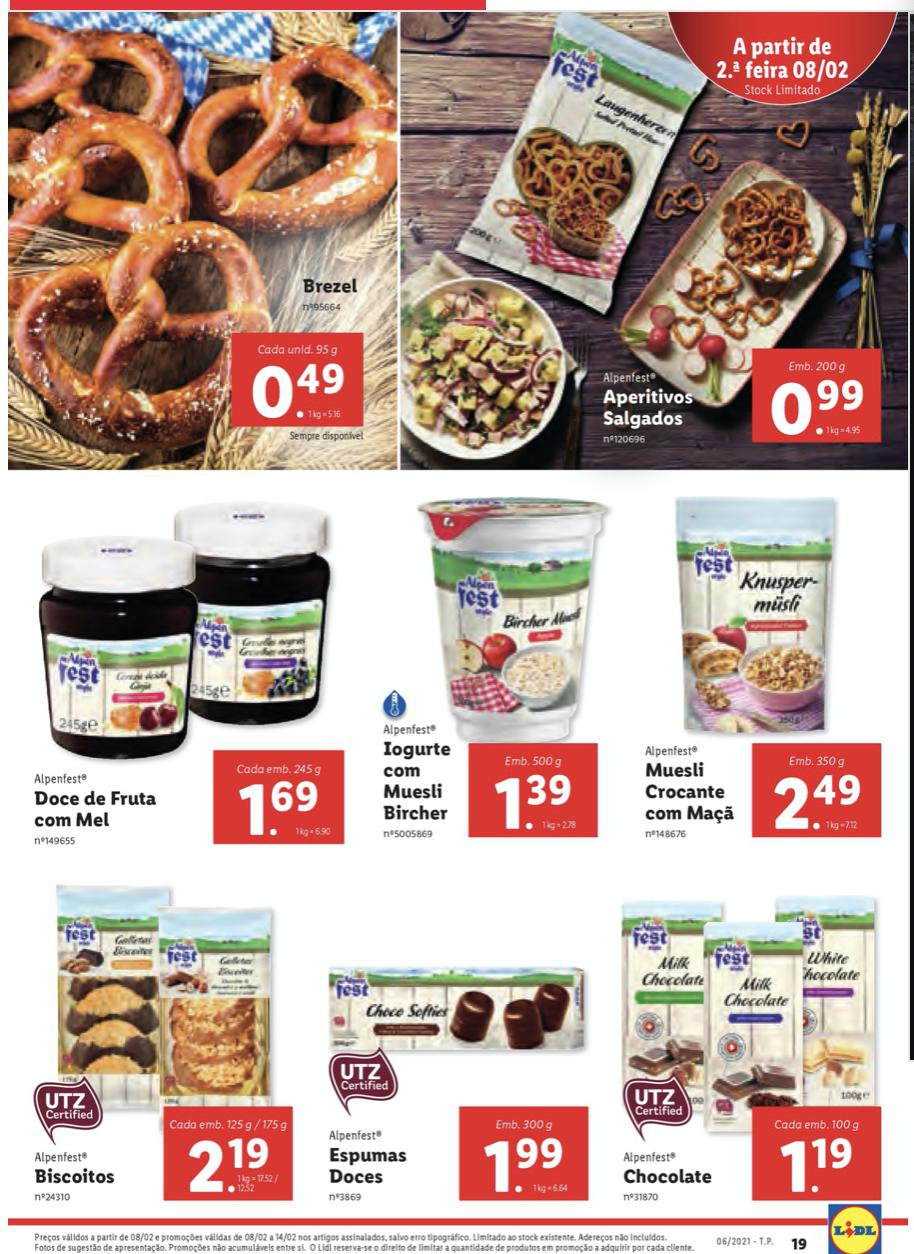name: (641, 757, 742, 826), (380, 738, 455, 826), (32, 787, 160, 834), (328, 1140, 424, 1192), (599, 384, 699, 431), (622, 1163, 717, 1195), (32, 1168, 117, 1192), (300, 274, 361, 301)
price: (249, 363, 355, 434), (767, 765, 871, 832), (771, 373, 867, 443), (485, 1132, 572, 1206), (778, 1134, 861, 1201), (236, 781, 325, 842), (497, 771, 582, 832), (186, 1135, 267, 1195)
product: (402, 53, 900, 467), (14, 24, 383, 449), (24, 492, 355, 871), (639, 487, 914, 857), (611, 881, 903, 1210), (371, 487, 625, 854), (30, 881, 292, 1210), (319, 942, 591, 1207)
